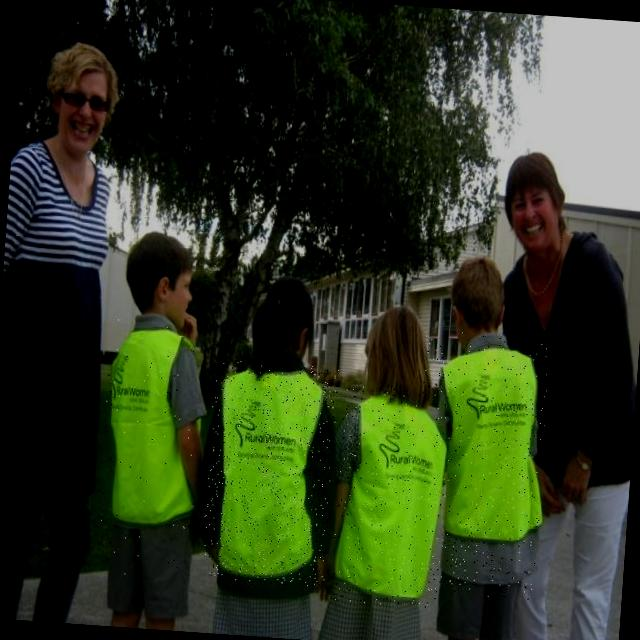no-helmet: (34, 39, 136, 162), (345, 294, 451, 412), (106, 227, 210, 338), (244, 279, 330, 391), (491, 151, 580, 257), (446, 246, 520, 351)
no-vest: (0, 134, 134, 529), (465, 233, 640, 502)
vest: (407, 330, 552, 600), (200, 360, 338, 588), (90, 318, 204, 578), (330, 384, 454, 608)
